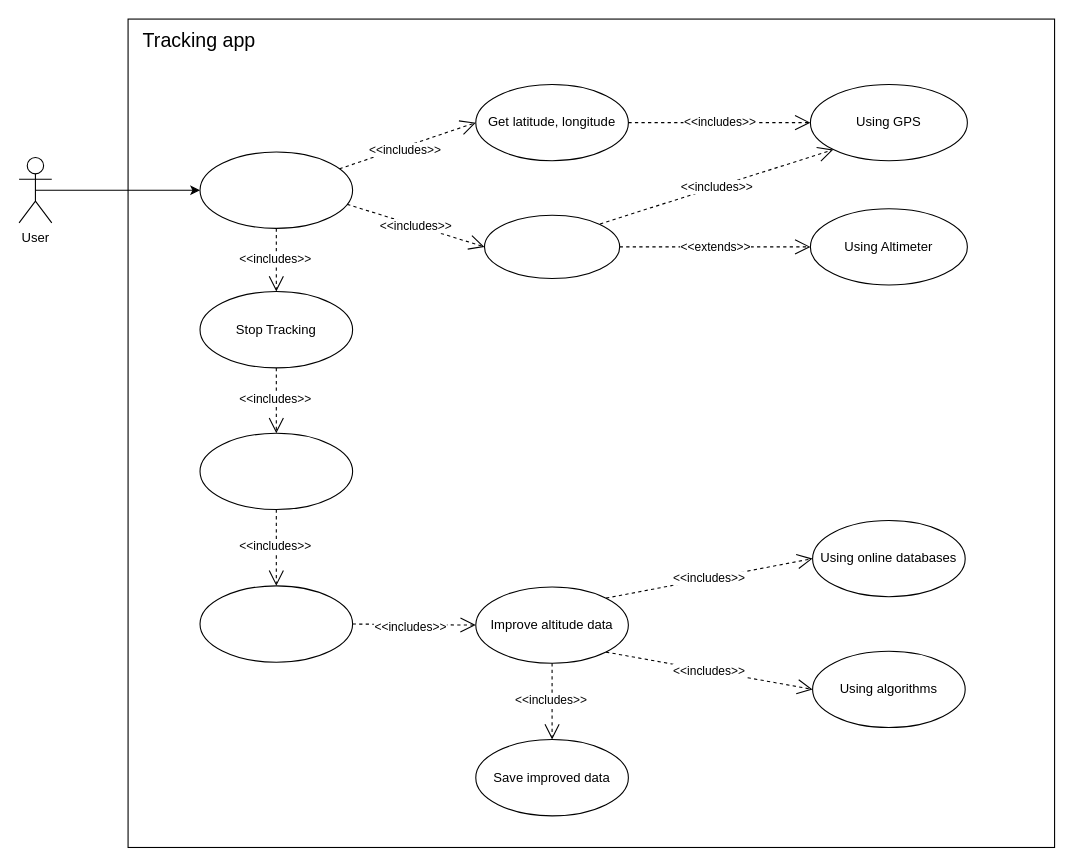
The diagram is 1074 pixels wide and 867 high, and some of its shapes have lost their labels. Each missing label, with the box of its shape:
Get altitude: (483, 214, 620, 278)
Save tracked data: (199, 432, 353, 510)
Start Tracking: (199, 151, 353, 228)
Upload tracked data to backend: (199, 585, 353, 662)
